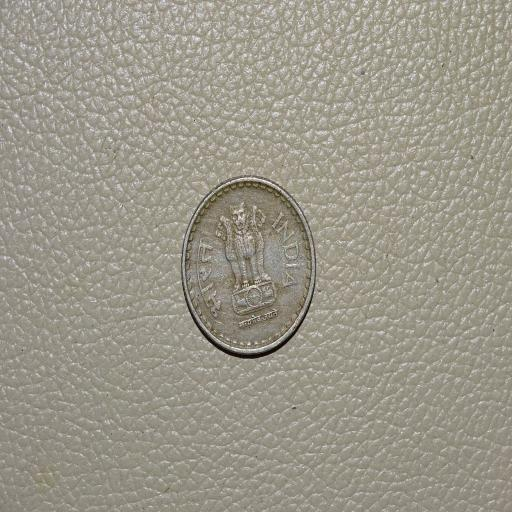rupee5: (180, 176, 317, 355)
